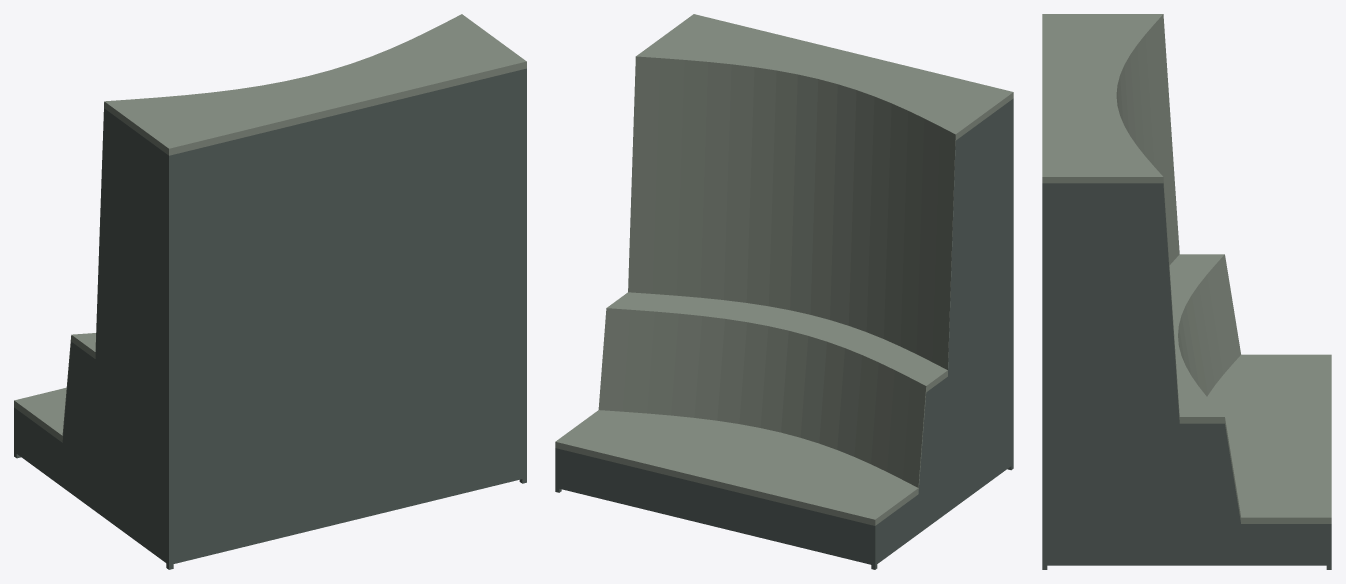
File: visual-far.glb
3 views of the same model, side by side, from view 1: azimuth 30°, elevation 25°; view 2: azimuth 150°, elevation 25°; view 3: azimuth 270°, elevation 25° (orthographic). The views are drawn at different scales.
Visible parts, largest first — view 1: 崖壁内外转折与台阶边缘族; view 2: 崖壁内外转折与台阶边缘族; view 3: 崖壁内外转折与台阶边缘族.
Boxes of the visible parts, x1=… form: 崖壁内外转折与台阶边缘族: x1=14, y1=14, x2=526, y2=569; 崖壁内外转折与台阶边缘族: x1=555, y1=14, x2=1013, y2=569; 崖壁内外转折与台阶边缘族: x1=1042, y1=14, x2=1331, y2=569.
Size of the model in its own units: 16 by 18 by 12.
2 materials, 2 textured.
